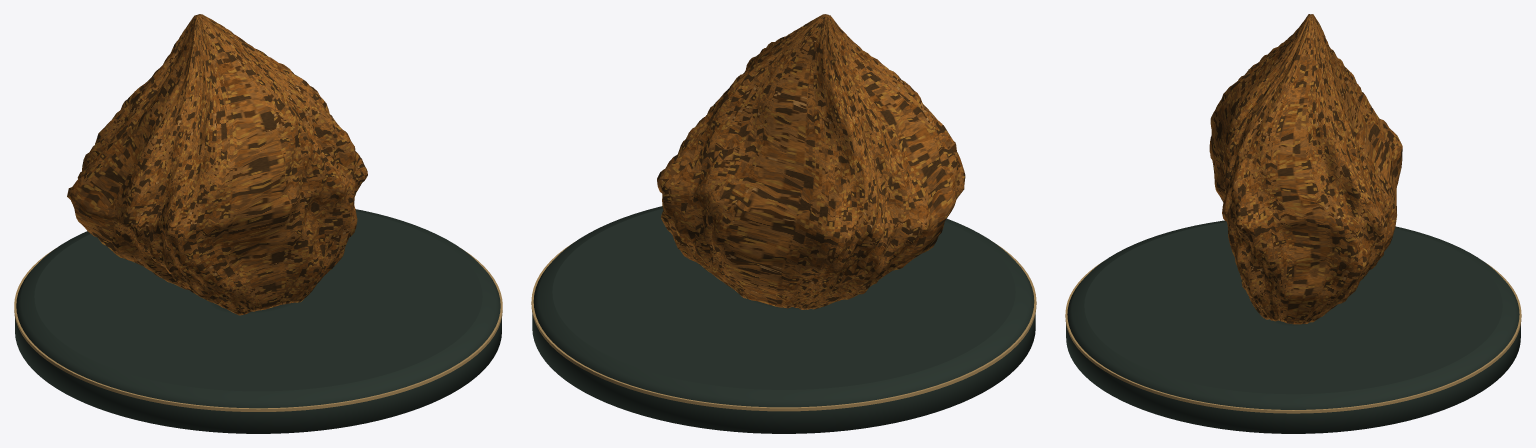
Rendered from lingstone-concept-03-v191-d8451646b4e6.glb.
3 renders of one model, left to right at view 1: azimuth 30°, elevation 25°; view 2: azimuth 150°, elevation 25°; view 3: azimuth 270°, elevation 25°, orthographic. The views are drawn at different scales.
Visible parts, largest first — view 1: Centered beveled display plinth, XY-CONCEPT-003 concept stone, Champagne gold edge; view 2: Centered beveled display plinth, XY-CONCEPT-003 concept stone, Champagne gold edge; view 3: Centered beveled display plinth, XY-CONCEPT-003 concept stone, Champagne gold edge.
Part boxes in pixels (left/top/right/bottom): Centered beveled display plinth: left=15, top=209, right=501, bottom=433; XY-CONCEPT-003 concept stone: left=67, top=14, right=367, bottom=315; Champagne gold edge: left=14, top=248, right=502, bottom=411; Centered beveled display plinth: left=532, top=206, right=1035, bottom=433; XY-CONCEPT-003 concept stone: left=657, top=14, right=965, bottom=309; Champagne gold edge: left=531, top=242, right=1036, bottom=411; Centered beveled display plinth: left=1066, top=220, right=1520, bottom=433; XY-CONCEPT-003 concept stone: left=1209, top=14, right=1402, bottom=324; Champagne gold edge: left=1065, top=263, right=1521, bottom=413.
Bounding box in the file's own units: 2.26 × 1.66 × 2.26.
Materials: 4 (1 with a texture image).
